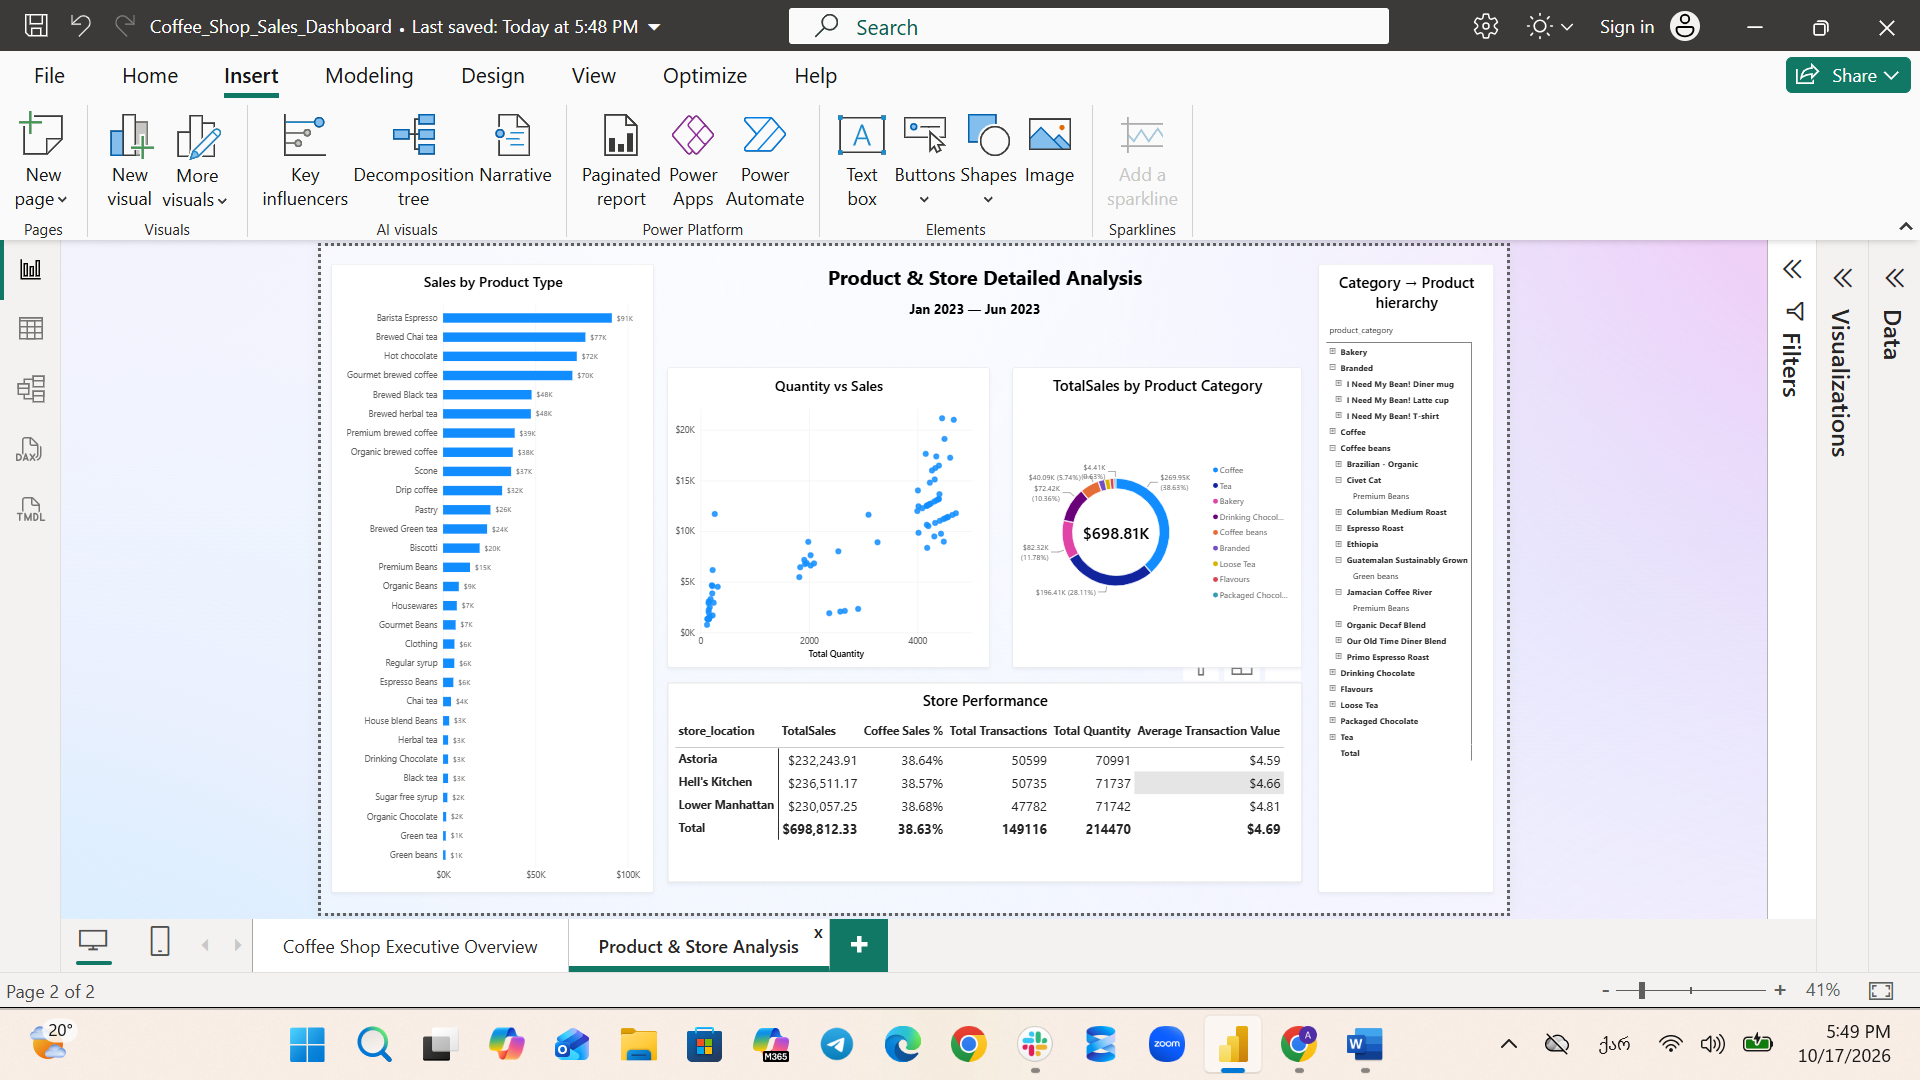

The page's visual inventory and layout, read from the dashboard file:
{"tool":"powerbi","page":{"name":"Product & Store Analysis","canvas":[1920,1080],"ordinal":1},"visuals":[{"type":"clusteredBarChart","title":"Sales by Product Type","fields":{"Category":["CoffeShop.product_type"],"Y":["CoffeShop.TotalSales"]},"box":[17,29.1,522.2,1017.7],"z":0},{"type":"scatterChart","title":"Quantity vs Sales","fields":{"Category":["CoffeShop.product_detail"],"X":["CoffeShop.Total Quantity"],"Y":["CoffeShop.TotalSales"]},"box":[561.1,196.7,522,486],"z":1000},{"type":"pivotTable","title":"Store Performance","fields":{"Rows":["CoffeShop.store_location"],"Values":["CoffeShop.TotalSales","CoffeShop.Coffee Sales %","CoffeShop.Total Transactions","CoffeShop.Total Quantity","CoffeShop.Average Transaction Value"]},"box":[561.1,706.8,1027.4,323],"z":2000},{"type":"pivotTable","title":"Category → Product hierarchy","fields":{"Rows":["CoffeShop.product_category","CoffeShop.product_detail","CoffeShop.product_type"]},"box":[1615.2,29.1,284.2,1017.7],"z":3000},{"type":"donutChart","title":"TotalSales by Product Category","fields":{"Category":["CoffeShop.product_category"],"Y":["CoffeShop.TotalSales"]},"box":[1119.7,196.7,468.8,485.8],"z":3001},{"type":"textbox","box":[813.7,29.1,522.2,58.3],"z":3002},{"type":"textbox","box":[932.7,87.4,252.6,29.1],"z":3003}]}

Visuals, with their boxes on the page's 1920x1080 design canvas (x1, y1, x2, y2). These are canvas units, not pixel positions in the 1920x1080 screenshot, which may show the page scaled, cropped or inside an application window:
"Sales by Product Type" clusteredBarChart: [17, 29, 539, 1047]
"Quantity vs Sales" scatterChart: [561, 197, 1083, 683]
"Store Performance" pivotTable: [561, 707, 1588, 1030]
"Category → Product hierarchy" pivotTable: [1615, 29, 1899, 1047]
"TotalSales by Product Category" donutChart: [1120, 197, 1588, 682]
textbox: [814, 29, 1336, 87]
textbox: [933, 87, 1185, 116]
